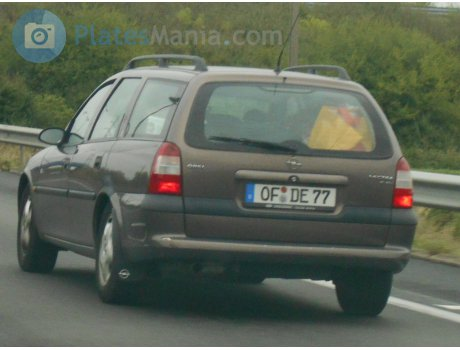License Plates: (256, 183, 341, 209)
